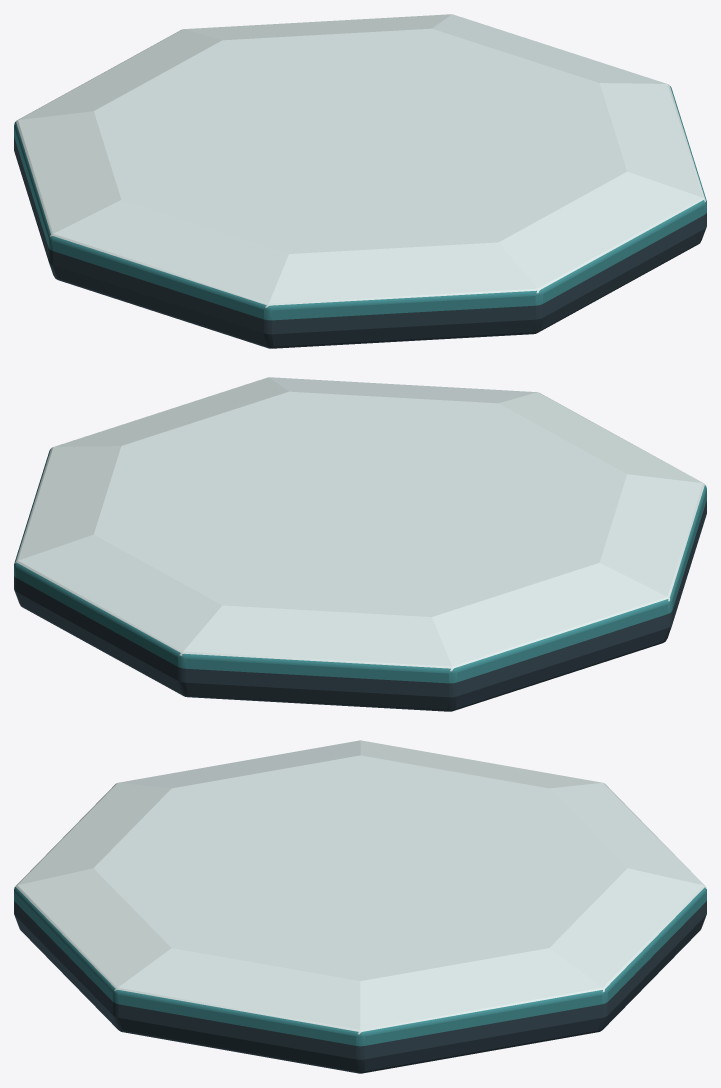
Rendered from powerup_base.glb.
3 views of the same model, one above another, from view 1: azimuth 30°, elevation 25°; view 2: azimuth 150°, elevation 25°; view 3: azimuth 270°, elevation 25° (orthographic). The views are drawn at different scales.
Visible parts, largest first — view 1: PowerupBase; view 2: PowerupBase; view 3: PowerupBase.
Part boxes in pixels (bbox=[...]): PowerupBase: bbox=[14, 14, 706, 348]; PowerupBase: bbox=[14, 377, 706, 711]; PowerupBase: bbox=[14, 740, 706, 1073].
Bounding box in the file's own units: 5.48 × 0.55 × 5.48.
